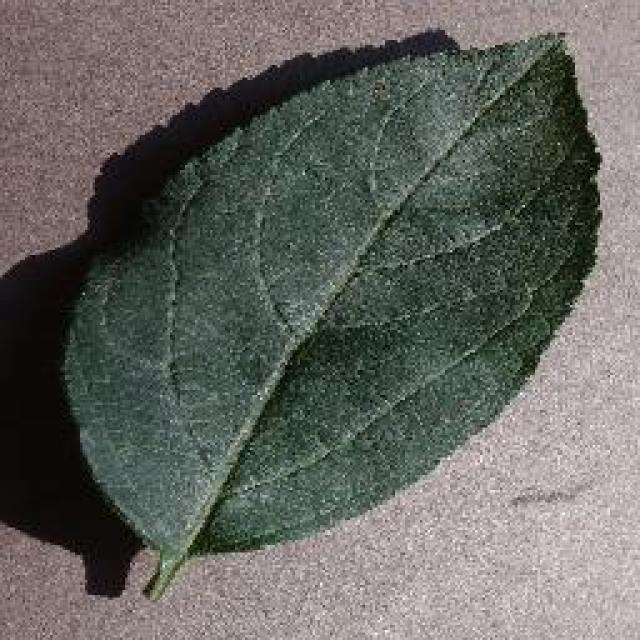apple healthy: (55, 25, 605, 600)
